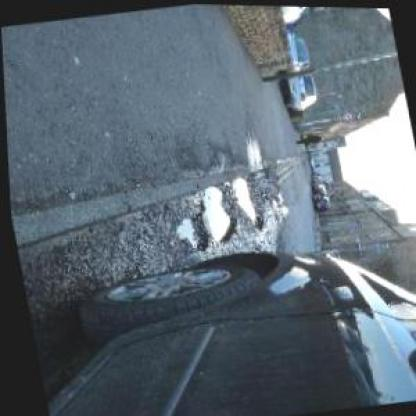pothole: (224, 171, 264, 233), (197, 181, 237, 242), (169, 212, 207, 254)
